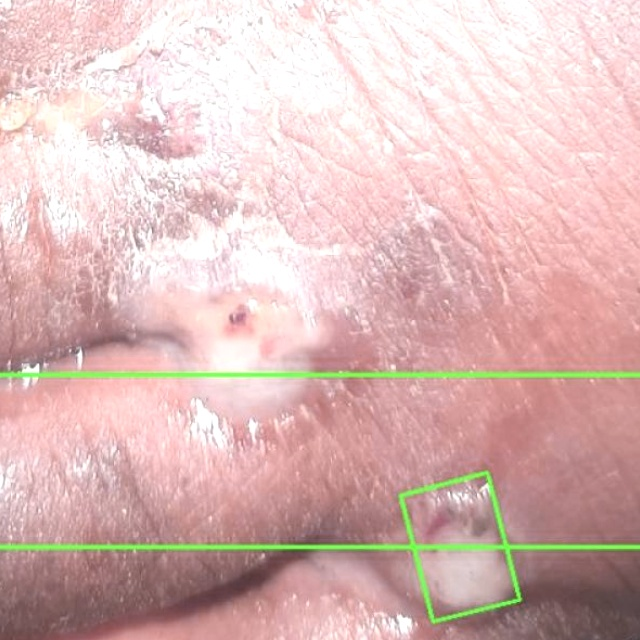Eczema: (0, 0, 639, 375), (0, 547, 639, 639), (401, 472, 520, 621)
